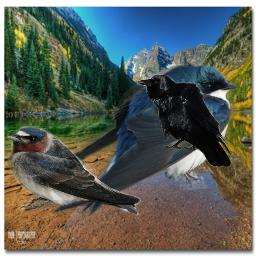Crow: (137, 74, 233, 168)
Swallow: (25, 63, 236, 216), (4, 125, 142, 216)
